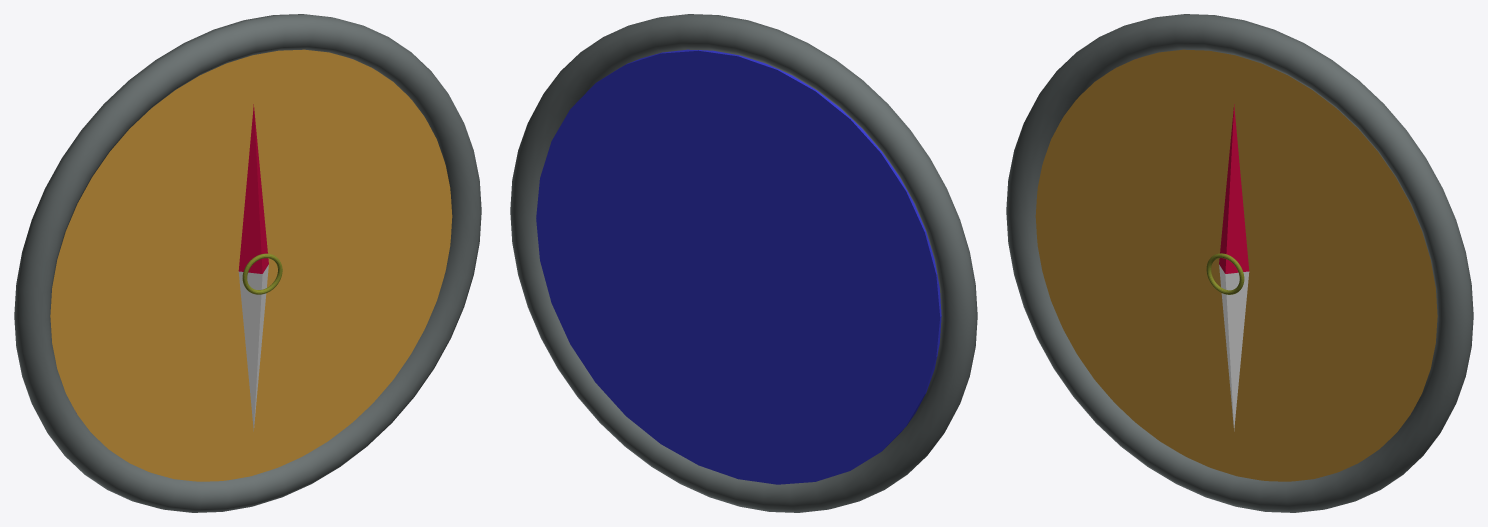
File: bussola.fbx
3 views of the same model, side by side, from view 1: azimuth 30°, elevation 25°; view 2: azimuth 150°, elevation 25°; view 3: azimuth 330°, elevation 25° (orthographic).
Parts seen in each view (by area): view 1: Circle, Torus, Cone.001; view 2: Circle, Torus; view 3: Circle, Torus, Cone.001.
Part boxes in pixels (box(x1,y1,x2,y2)): Circle: box(50, 49, 452, 481); Torus: box(14, 14, 481, 512); Cone.001: box(238, 104, 282, 431); Circle: box(536, 49, 941, 484); Torus: box(510, 14, 977, 512); Circle: box(1035, 49, 1437, 481); Torus: box(1006, 14, 1473, 512); Cone.001: box(1206, 104, 1249, 431).
Size of the model in its own units: 916 by 916 by 86.95.
